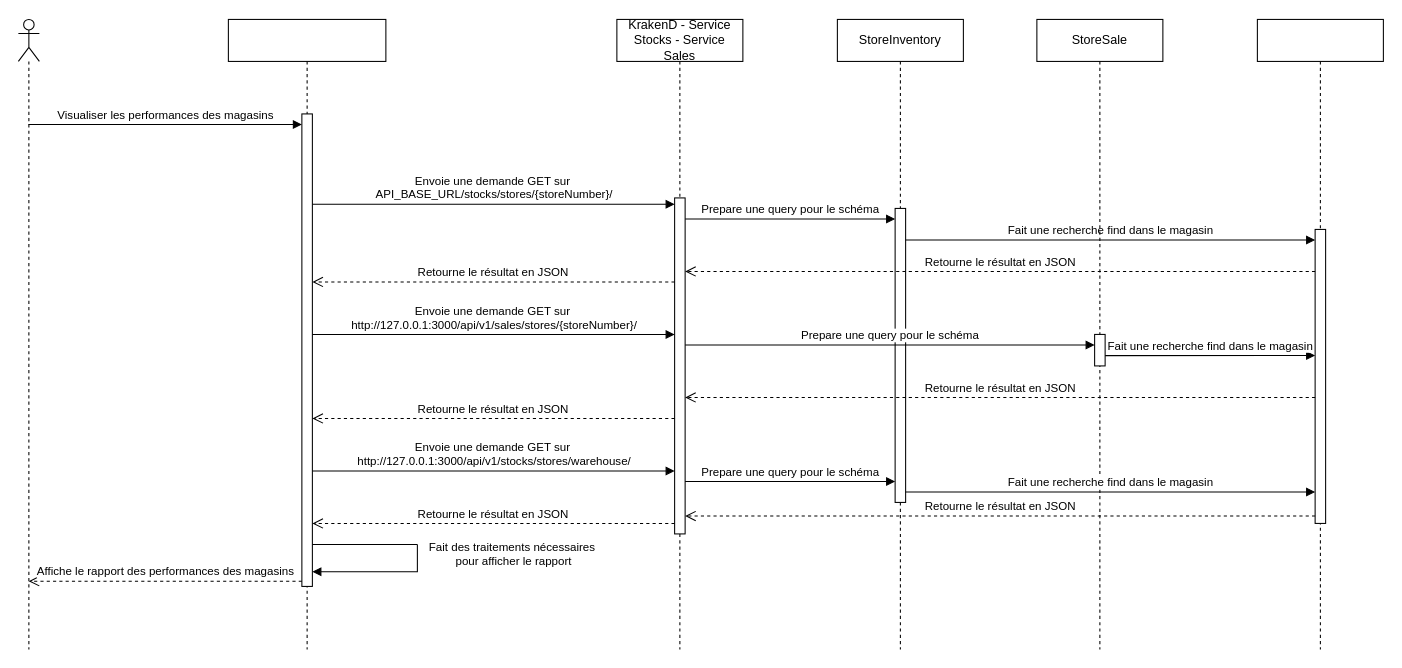
This 1402x668 diagram has some shape labels left out. Here are the shapes that lost their labels. From the top down, the box of each, then its label:
(227, 18, 386, 649): Frontend Django Python
(1256, 18, 1383, 649): Base de données MongoDB
